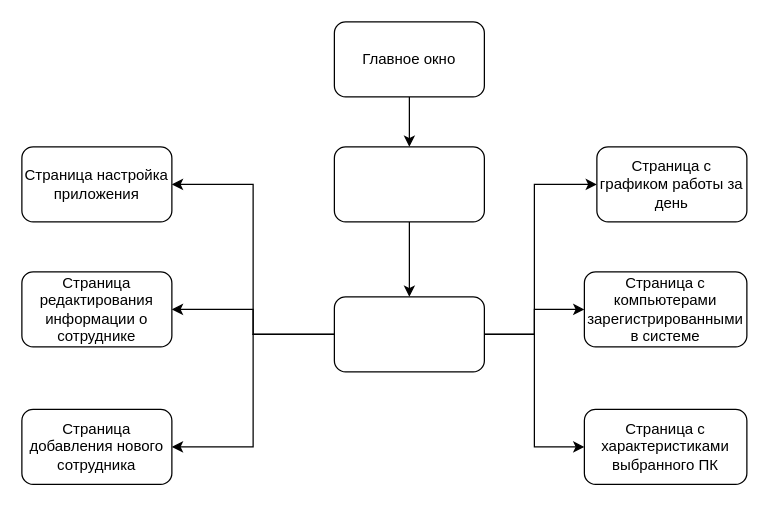
The diagram is 769 pixels wide and 506 high, and some of its shapes have lost their labels. Each missing label, with the centre of its shape:
"Главная страница приложения" belongs at (408,334).
"Страница авторизации" belongs at (408,184).
